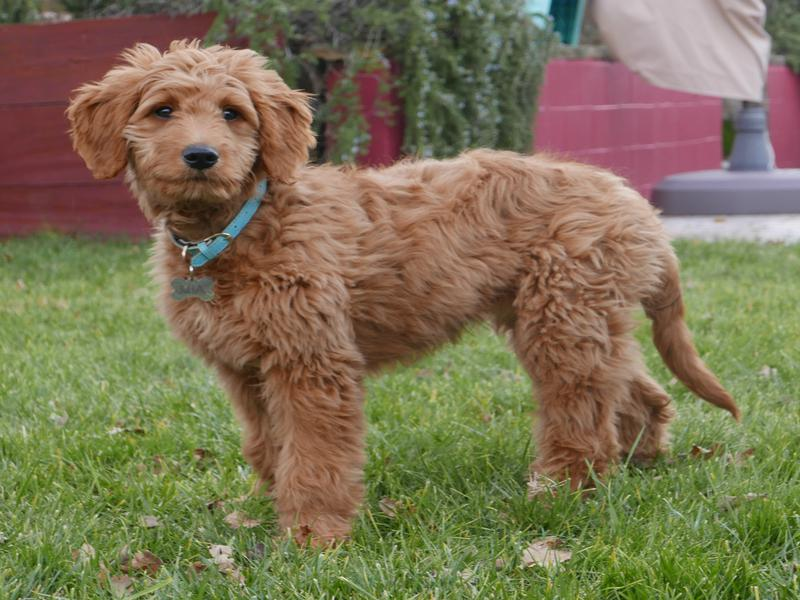dog_stand: (61, 34, 745, 554)
